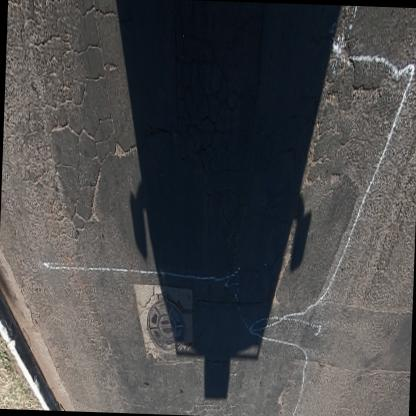manholes: (141, 282, 189, 364)
